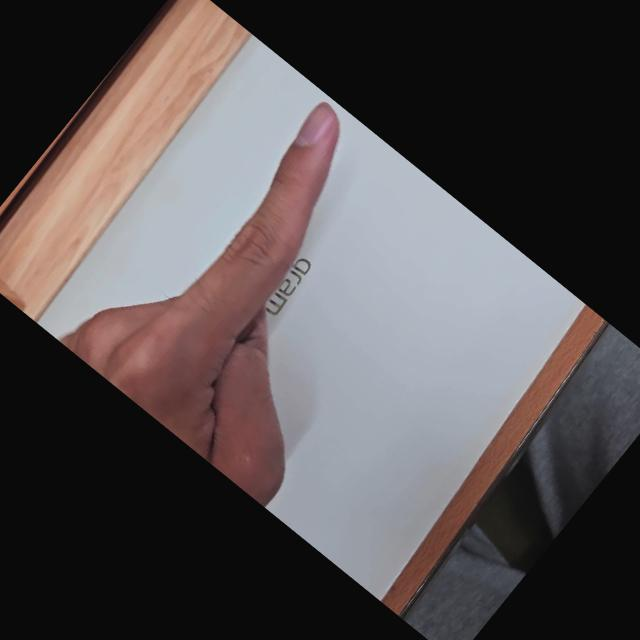finger: (200, 99, 396, 310), (215, 102, 340, 284)
